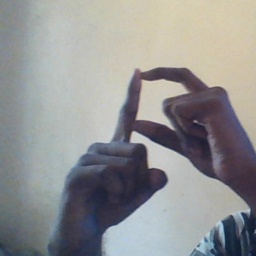D: (100, 57, 226, 180)
